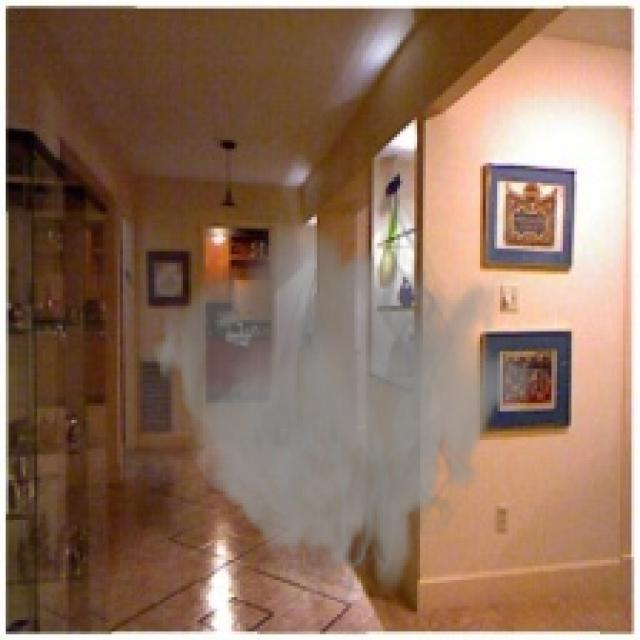Smoke: (152, 182, 537, 608)
